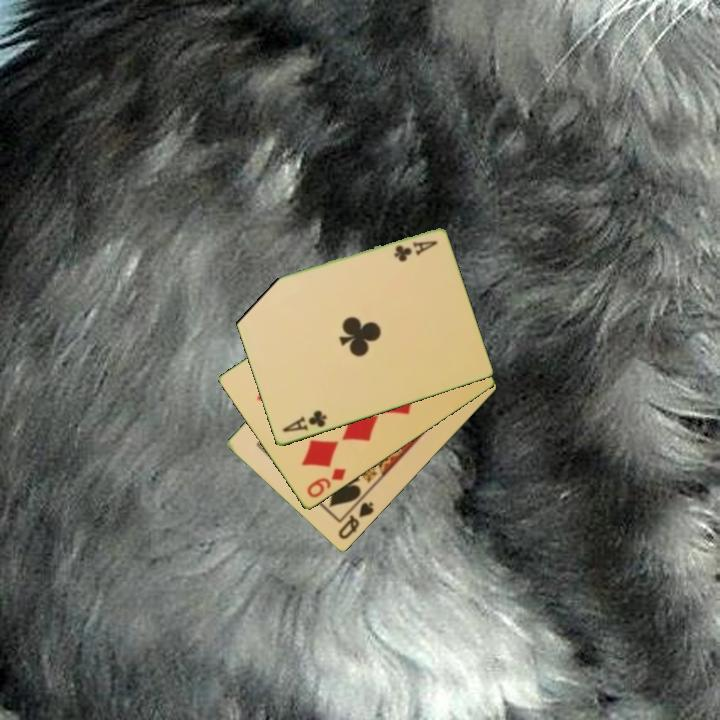9d: (303, 465, 349, 501)
Ac: (279, 407, 329, 435), (390, 237, 440, 264)
Qs: (335, 499, 377, 543)
